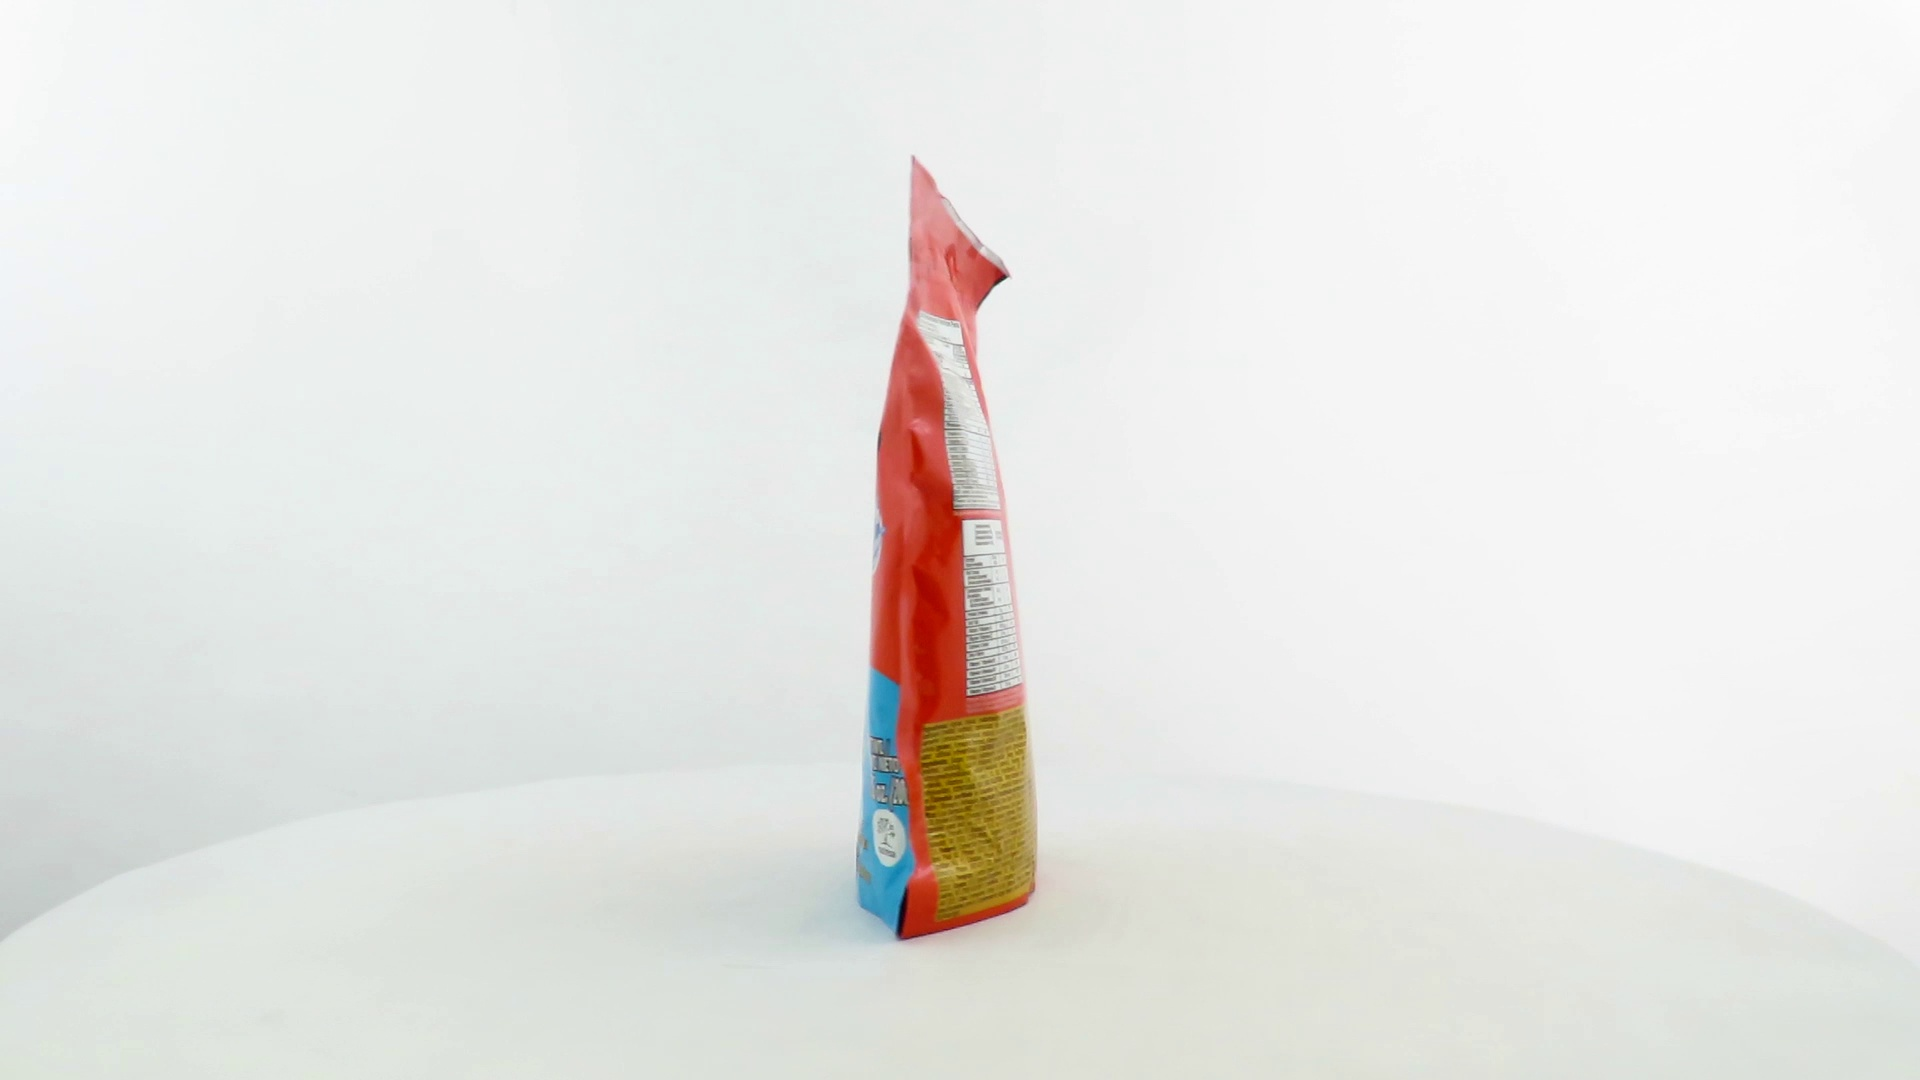COL0170104DYP20000: (851, 150, 1044, 947)
